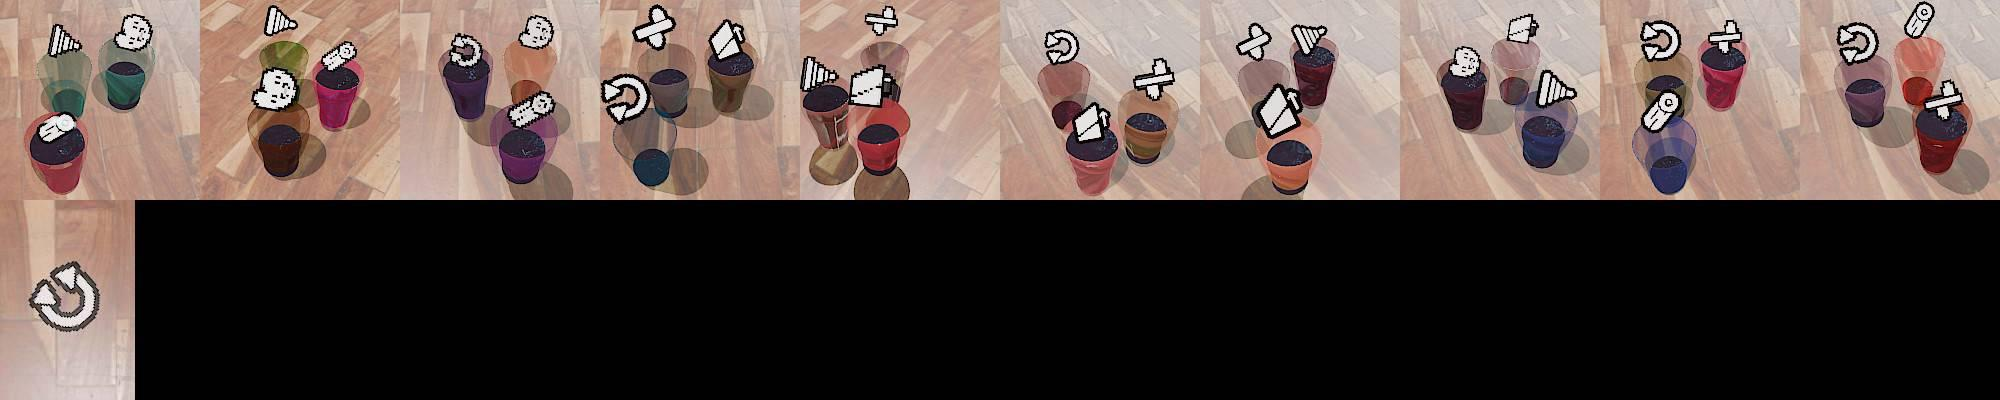icon: (27, 260, 102, 334), (1253, 82, 1304, 139), (601, 73, 649, 124), (251, 65, 298, 112), (848, 64, 893, 110), (633, 5, 676, 51), (1133, 56, 1176, 101), (1642, 87, 1684, 132), (506, 90, 556, 129), (1070, 101, 1112, 144), (1534, 68, 1578, 110), (1639, 19, 1681, 62), (707, 18, 747, 62), (1837, 22, 1878, 65), (1922, 80, 1963, 121), (800, 55, 839, 94), (115, 13, 153, 52), (1043, 27, 1079, 66), (37, 111, 78, 145), (518, 14, 555, 51), (1708, 19, 1744, 57), (1236, 23, 1270, 62), (448, 33, 485, 68), (1291, 23, 1327, 57), (47, 23, 83, 57), (1903, 3, 1935, 41), (320, 41, 357, 73), (263, 5, 298, 37), (865, 5, 899, 37), (1506, 13, 1538, 45), (1450, 45, 1481, 78)
